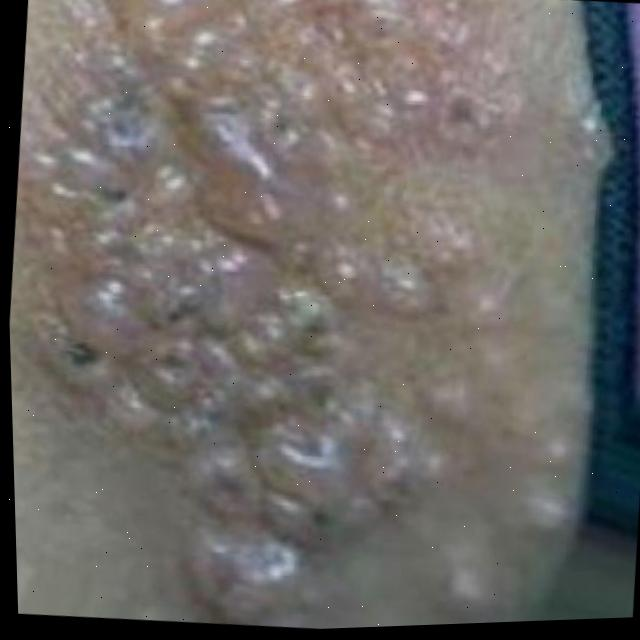Shingles: (0, 0, 631, 640)
